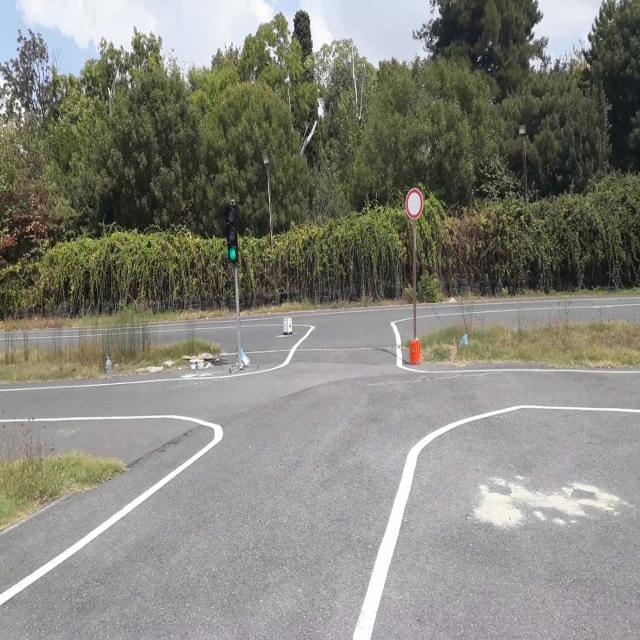yesil: (226, 206, 238, 262)
